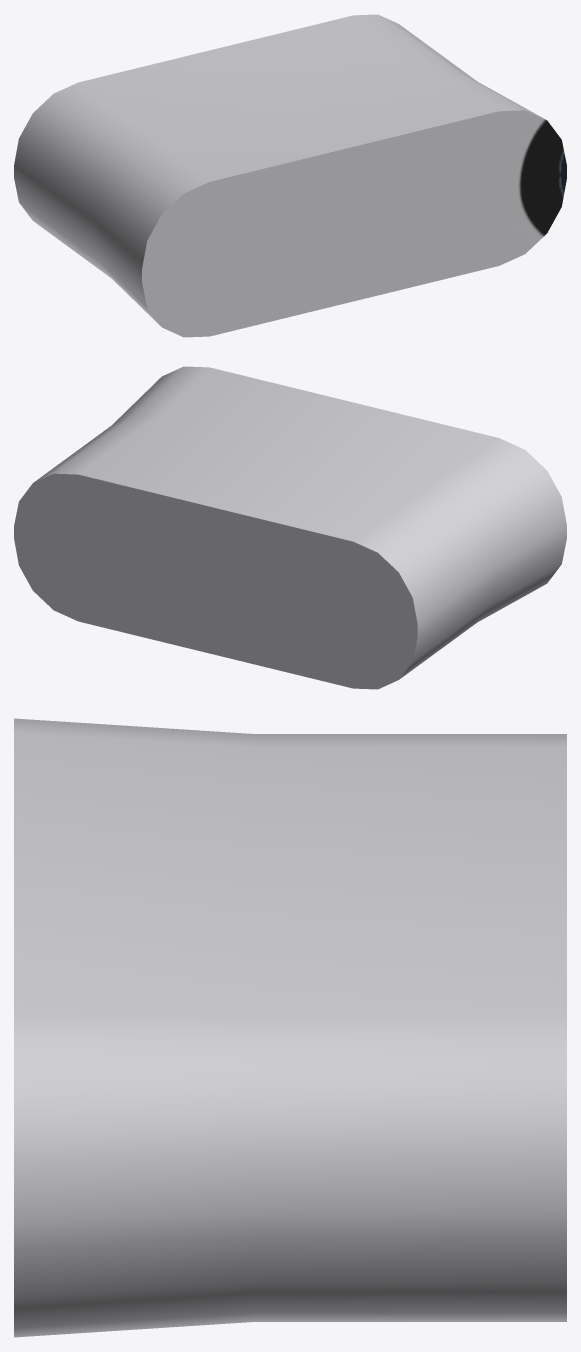
The model's file is DepthSensor.obj.
3 views of the same model, one above another, from view 1: azimuth 30°, elevation 25°; view 2: azimuth 150°, elevation 25°; view 3: azimuth 270°, elevation 25° (orthographic). The views are drawn at different scales.
Parts seen in each view (by area): view 1: DepthSensor; view 2: DepthSensor; view 3: DepthSensor.
Part boxes in pixels (x1,y1,x2,y2): DepthSensor: (14,14,566,337); DepthSensor: (14,366,566,689); DepthSensor: (14,718,566,1337).
Bounding box in the file's own units: 0.115 × 0.04 × 0.065.
Materials: 1 (1 with a texture image).
